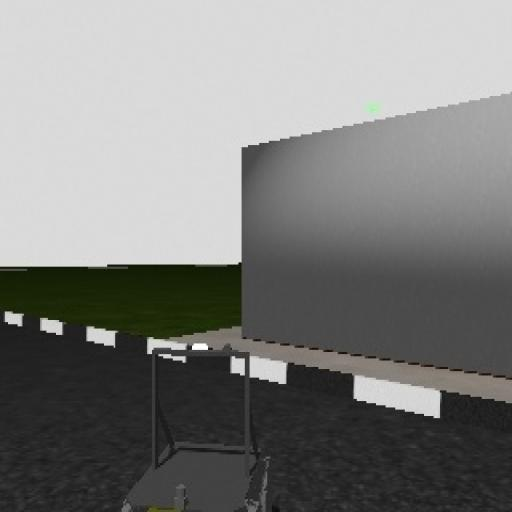huskya200: (123, 339, 276, 512)
